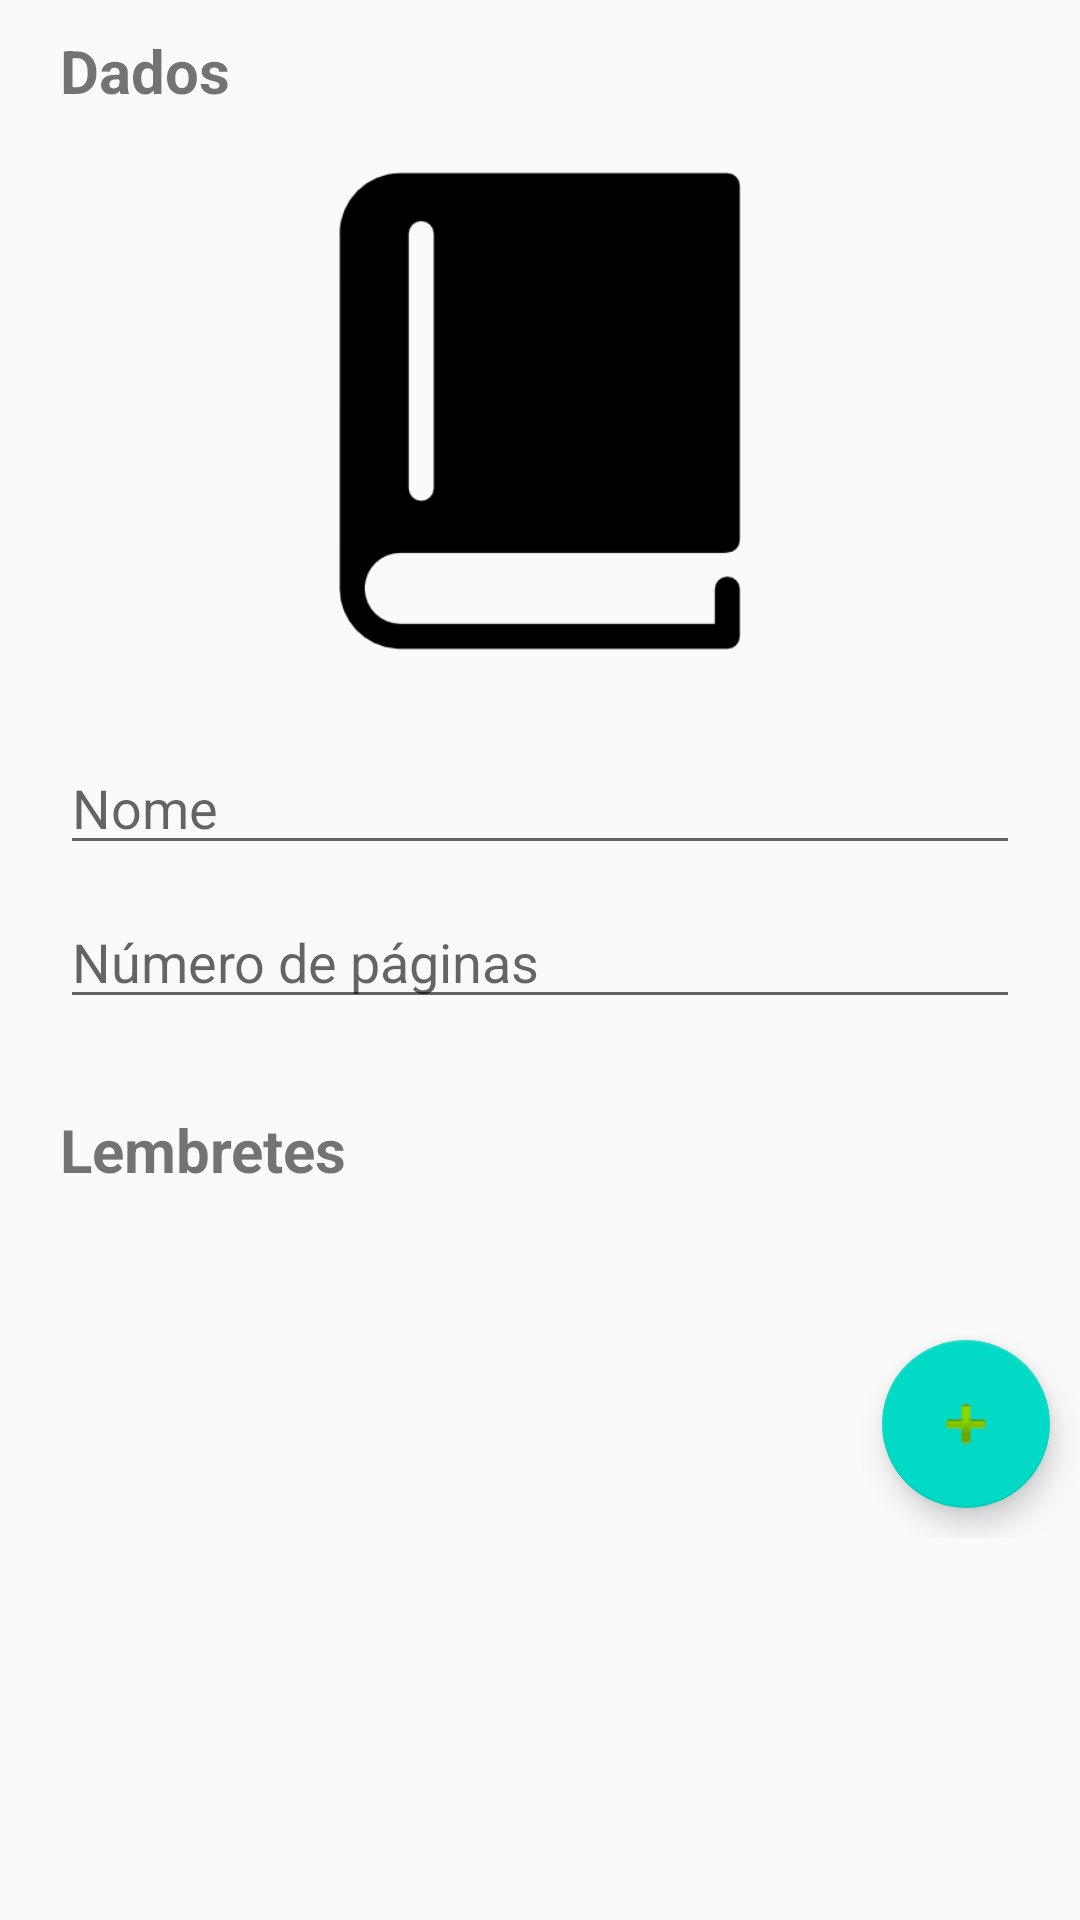

Where icons sit on this 1080 × 1920 app screen, as (x1, y1, x2, y2):
add: (882, 1340, 1050, 1508)
